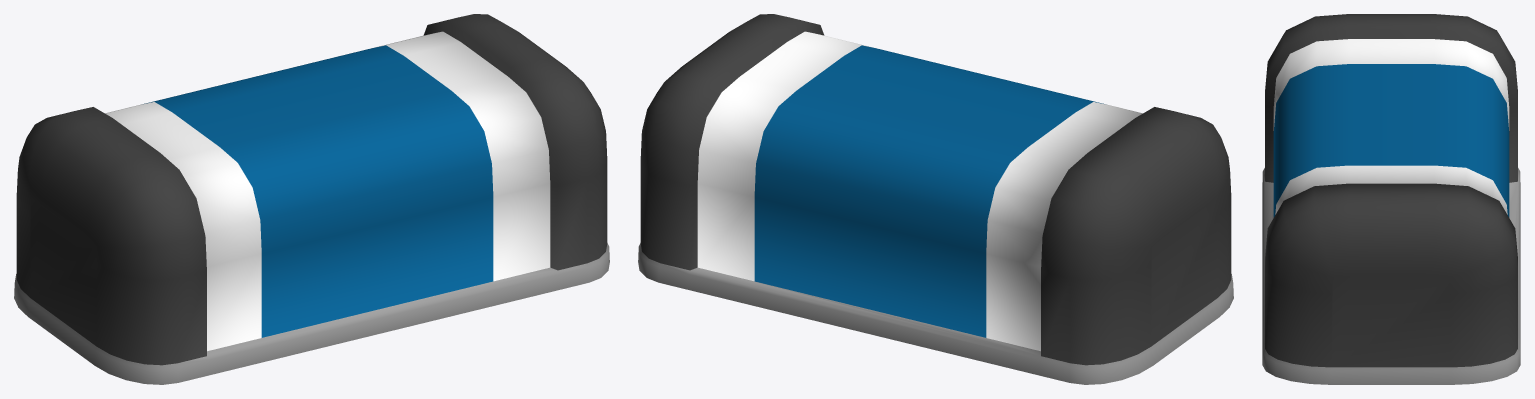
The model's file is yarg_hopo.fbx.
The picture shows the model from 3 angles, left to right: view 1: azimuth 30°, elevation 25°; view 2: azimuth 150°, elevation 25°; view 3: azimuth 270°, elevation 25°; orthographic projection. The views are drawn at different scales.
Visible parts, largest first — view 1: Cube.002; view 2: Cube.002; view 3: Cube.002.
Boxes of the visible parts, box(x1,y1,x2,y2) form: Cube.002: box(14, 14, 609, 384); Cube.002: box(638, 14, 1233, 384); Cube.002: box(1262, 14, 1520, 384).
Size of the model in its own units: 45.62 by 16.32 by 22.66.
